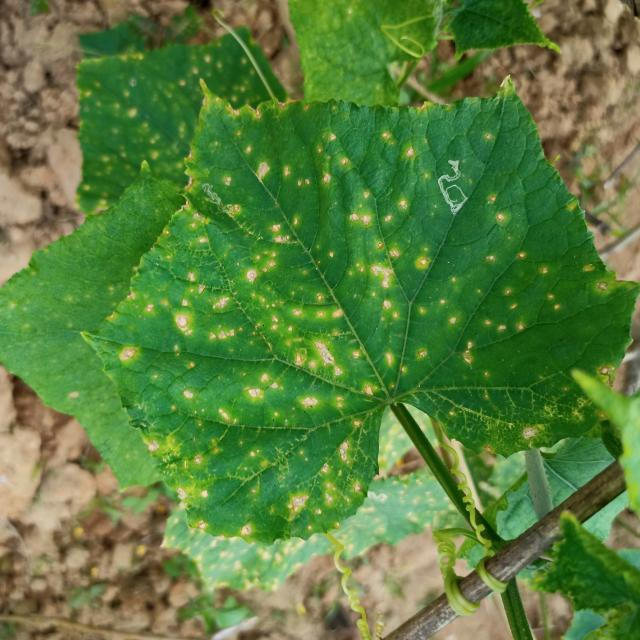disease_cucumber: (135, 90, 575, 534)
